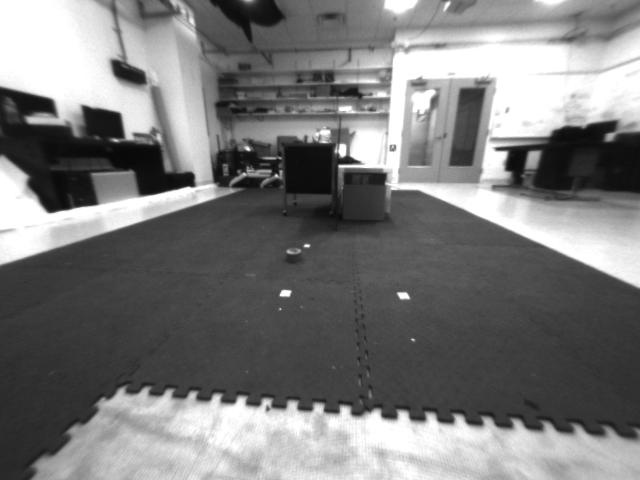dogtoy: (273, 242, 313, 276)
